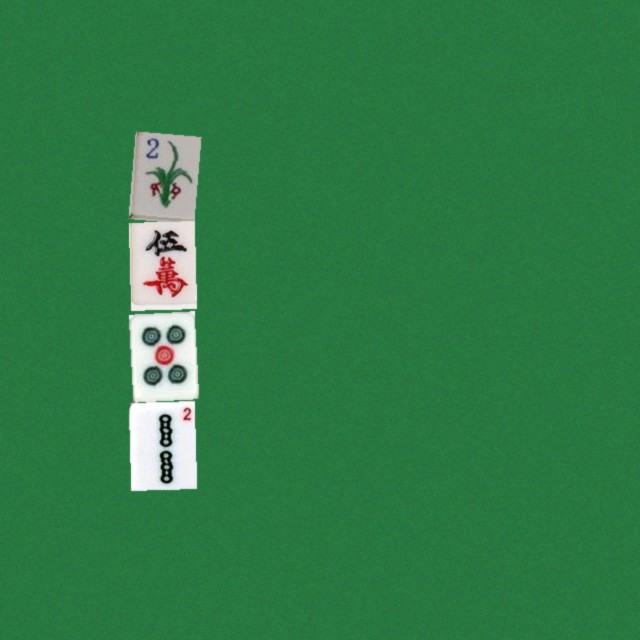tile: (128, 131, 194, 219), (128, 221, 194, 309), (128, 311, 194, 399), (128, 401, 194, 489)
